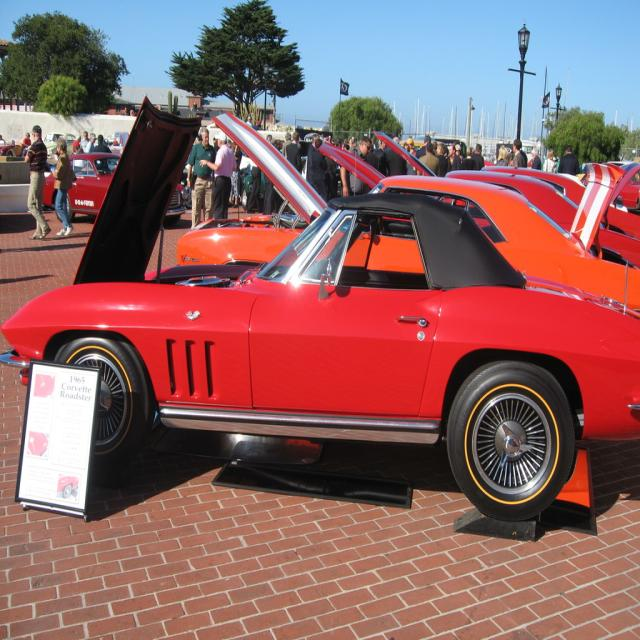Passenger Car: (7, 192, 611, 493)
